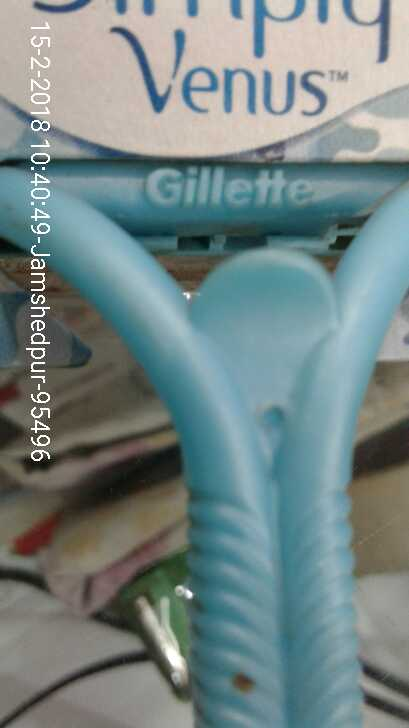reject: (171, 286, 315, 438)
